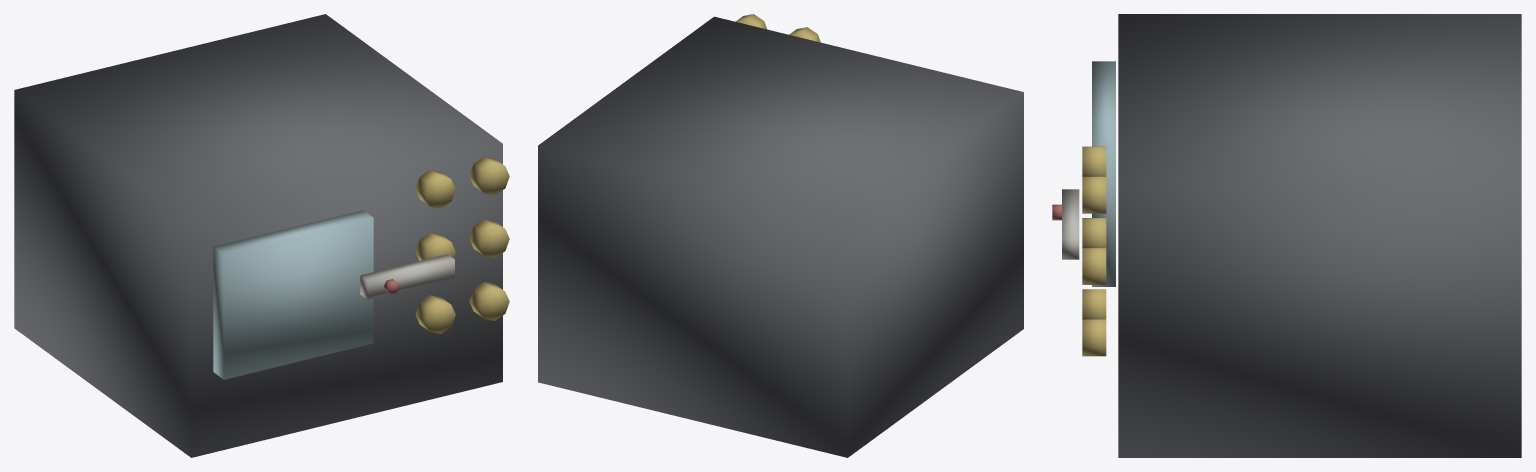
Rendered from oscilloscope__deep.glb.
The picture shows the model from 3 angles, left to right: view 1: azimuth 30°, elevation 25°; view 2: azimuth 150°, elevation 25°; view 3: azimuth 270°, elevation 25°; orthographic projection. The views are drawn at different scales.
Parts seen in each view (by area): view 1: world; view 2: world; view 3: world.
Boxes of the visible parts, x1,y1,x2,y2 form: world: (14, 14, 509, 457); world: (538, 14, 1023, 457); world: (1052, 14, 1521, 457).
Bounding box in the file's own units: 0.52 × 0.38 × 0.596.
